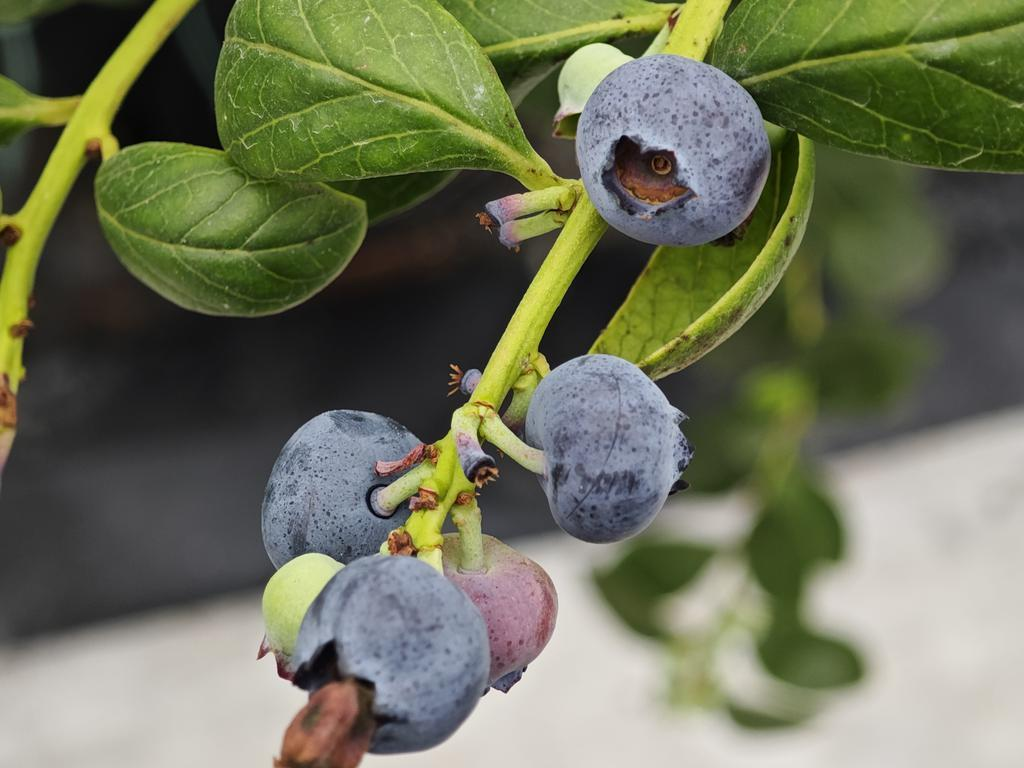RipeBlueBerry: (577, 54, 774, 247), (300, 551, 486, 753), (522, 356, 693, 544), (261, 404, 430, 572)
